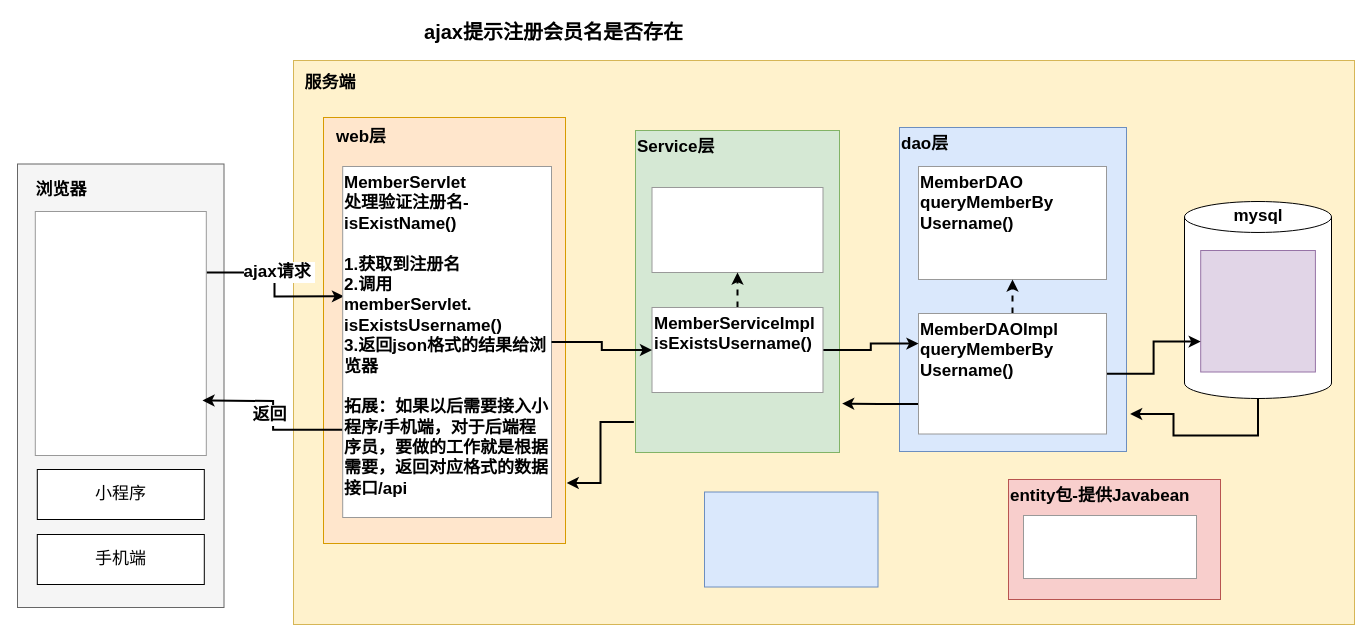
Some shapes in this 1372 by 642 pixel diagram are drawn without their labels. Each missing label, with the centre of its shape:
login.jsp 1.使用ajax发送注册名到服务器 2.接收返回的结果，显示到对应的位置 [会员名输入框]: the point at 120,333
Member.java: the point at 1109,546
MemberService isExistsUsername(): the point at 737,229
member表 字段 id username password: the point at 1257,311
test/junit包: the point at 791,539
